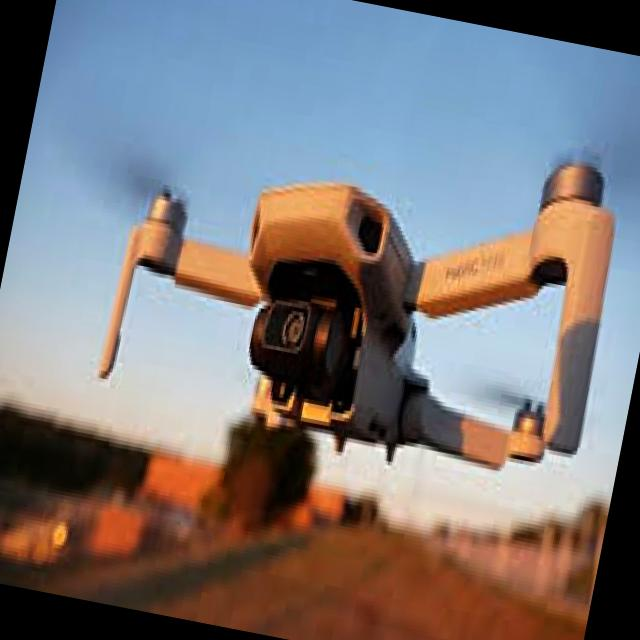drone: (25, 33, 640, 527)
